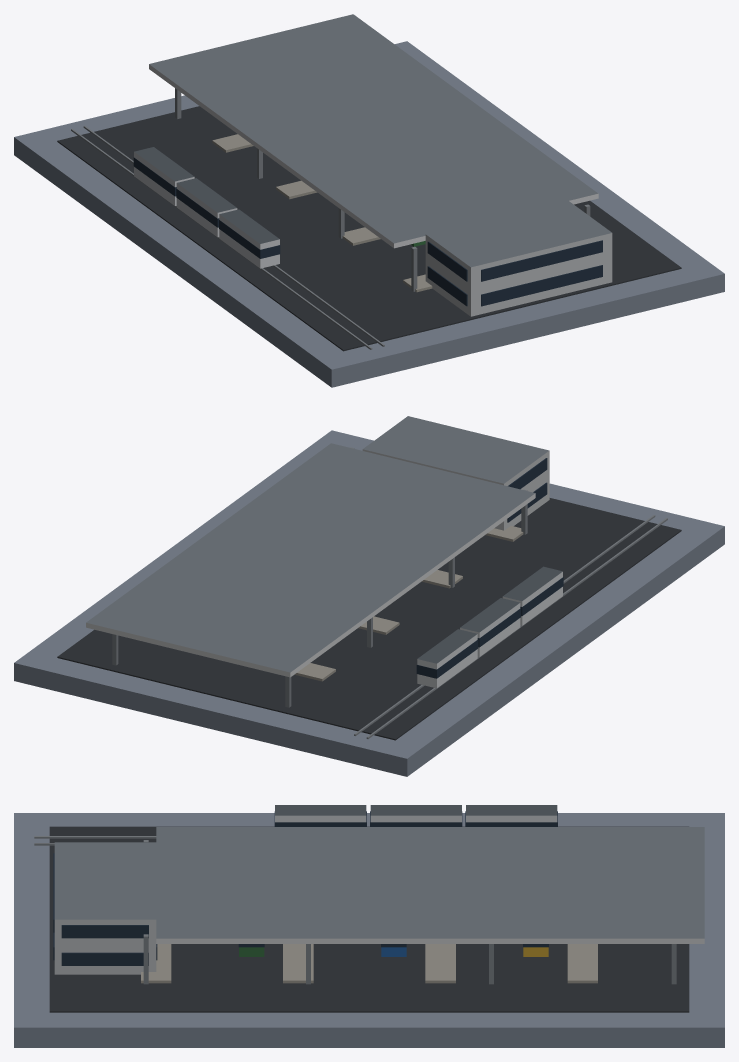
Rendered from bus_depot.glb.
3 renders of one model, top to bottom at view 1: azimuth 30°, elevation 25°; view 2: azimuth 150°, elevation 25°; view 3: azimuth 270°, elevation 25°, orthographic. The views are drawn at different scales.
Parts seen in each view (by area): view 1: bus_depot; view 2: bus_depot; view 3: bus_depot.
Boxes of the visible parts, x1=… form: bus_depot: x1=14, y1=14, x2=724, y2=387; bus_depot: x1=14, y1=416, x2=724, y2=776; bus_depot: x1=14, y1=805, x2=724, y2=1047.
Size of the model in its own units: 50 by 8.35 by 70.
